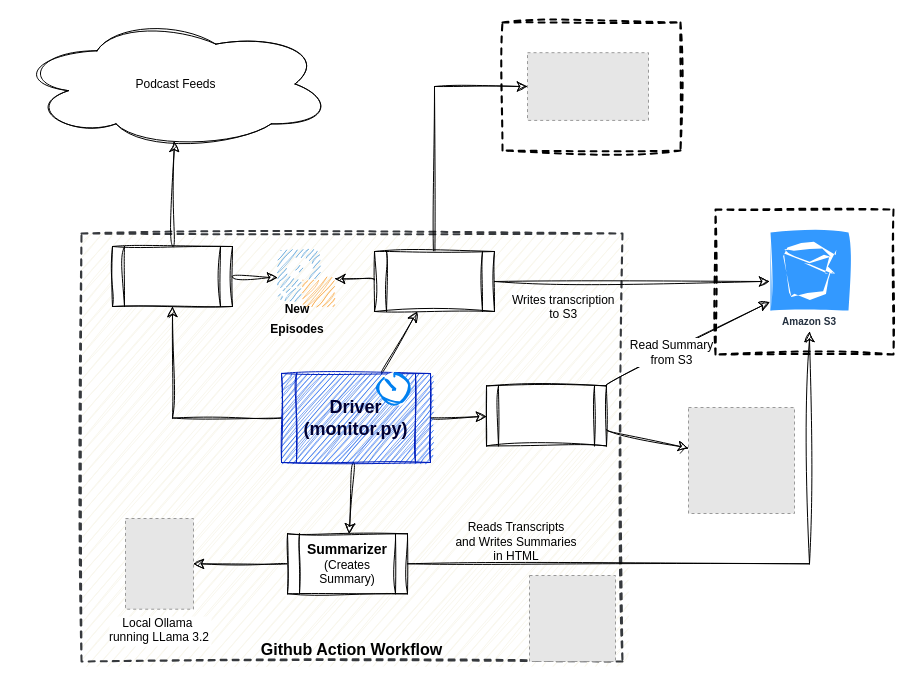
Image size: 917x680. Some labels were removed from this diagram. Grey dashed boxes stand in for pictures. Each missing label, with the centre of its shape:
Email (Sends Email): point 546,415
Feed Monitor (check for new episodes per cutoff date): point 172,276
Transcriber (transcribe audio files): point 434,281
